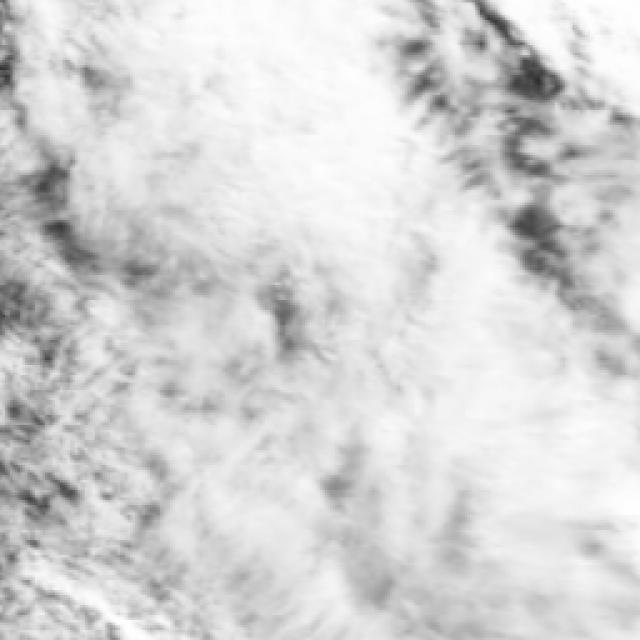CB: (176, 8, 366, 162), (200, 399, 363, 565), (406, 287, 552, 451), (221, 125, 403, 242), (487, 425, 640, 550)
